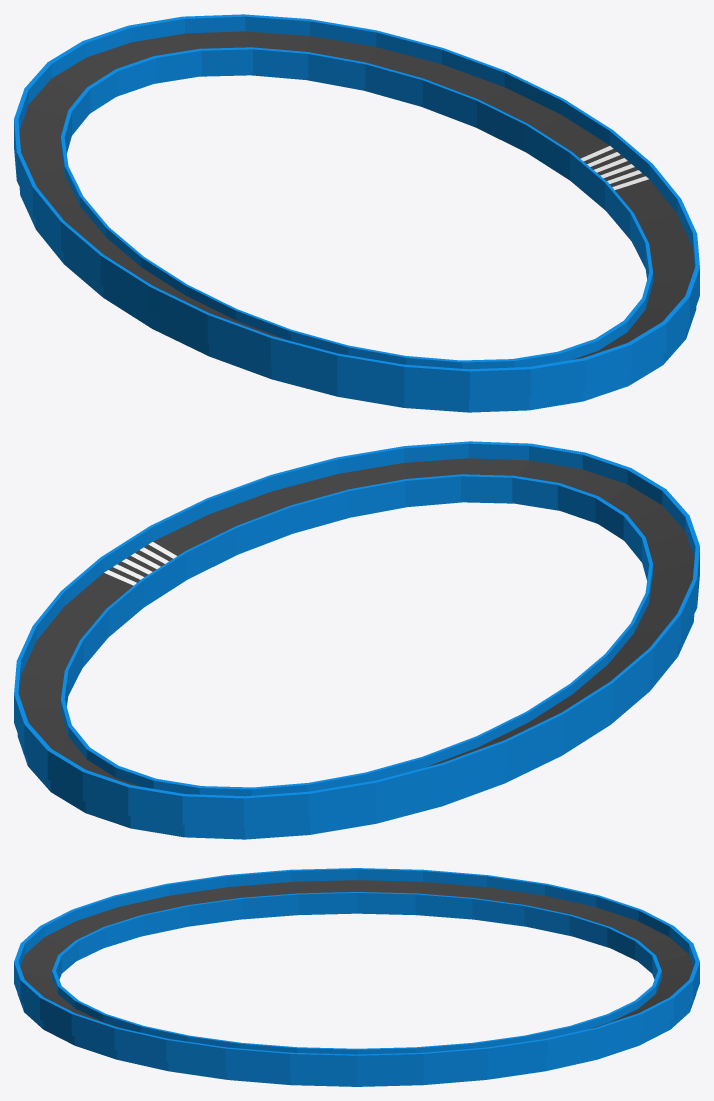
File: pista.fbx
3 renders of one model, top to bottom at view 1: azimuth 30°, elevation 25°; view 2: azimuth 150°, elevation 25°; view 3: azimuth 270°, elevation 25°, orthographic. The views are drawn at different scales.
Parts seen in each view (by area): view 1: Torus; view 2: Torus; view 3: Torus.
Part boxes in pixels (bbox=[...]): Torus: bbox=[14, 14, 699, 412]; Torus: bbox=[14, 441, 699, 839]; Torus: bbox=[14, 868, 699, 1086].
Size of the model in its own units: 502 by 325 by 25.98.
Materials: 1 (1 with a texture image).
